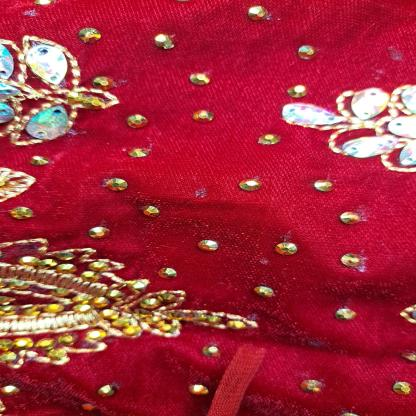spot: (190, 183, 214, 203)
